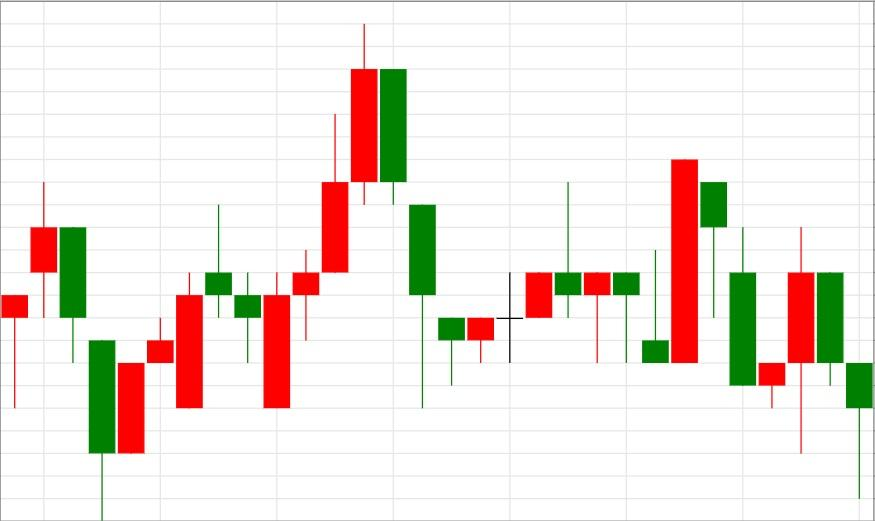inverse_hammer_rise: (554, 179, 670, 365)
three_white_soldiers_rise: (204, 114, 350, 410)
